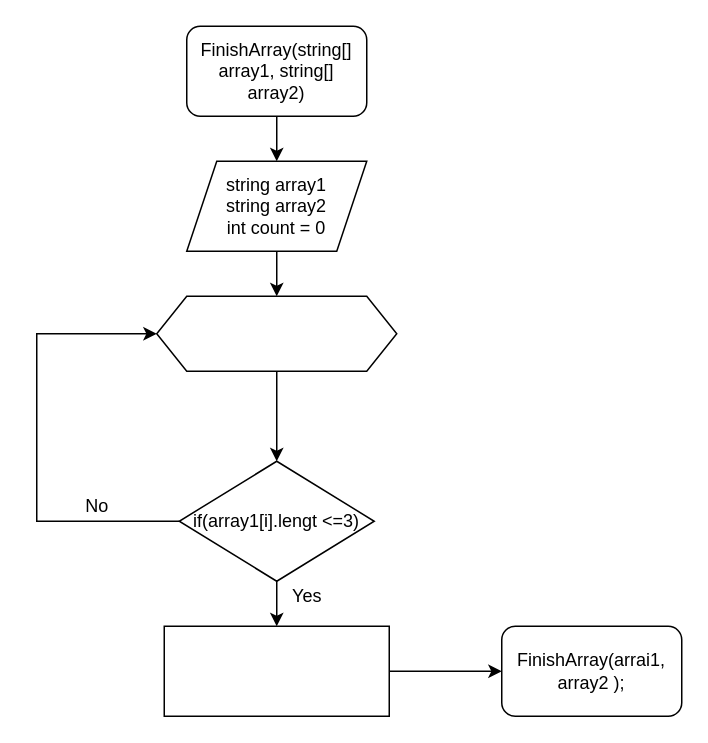
Some shapes in this 708 by 743 pixel diagram are drawn without their labels. The shapes that lost their labels are listed below. From the top down, each one's centre as x and y in pixels, then its label:
At pixel 276 333: "for(int i = 1; i < array1.length; i++;".
At pixel 276 670: "array2[count] = array1[i]; count++;".
